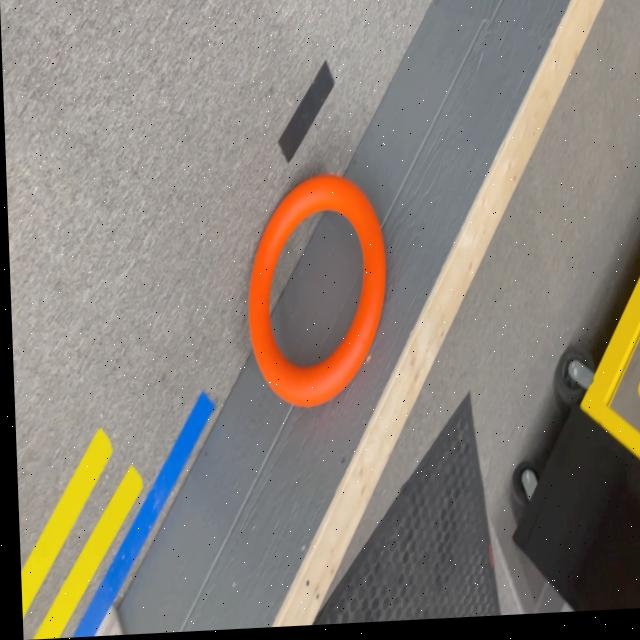note: (241, 173, 388, 410)
